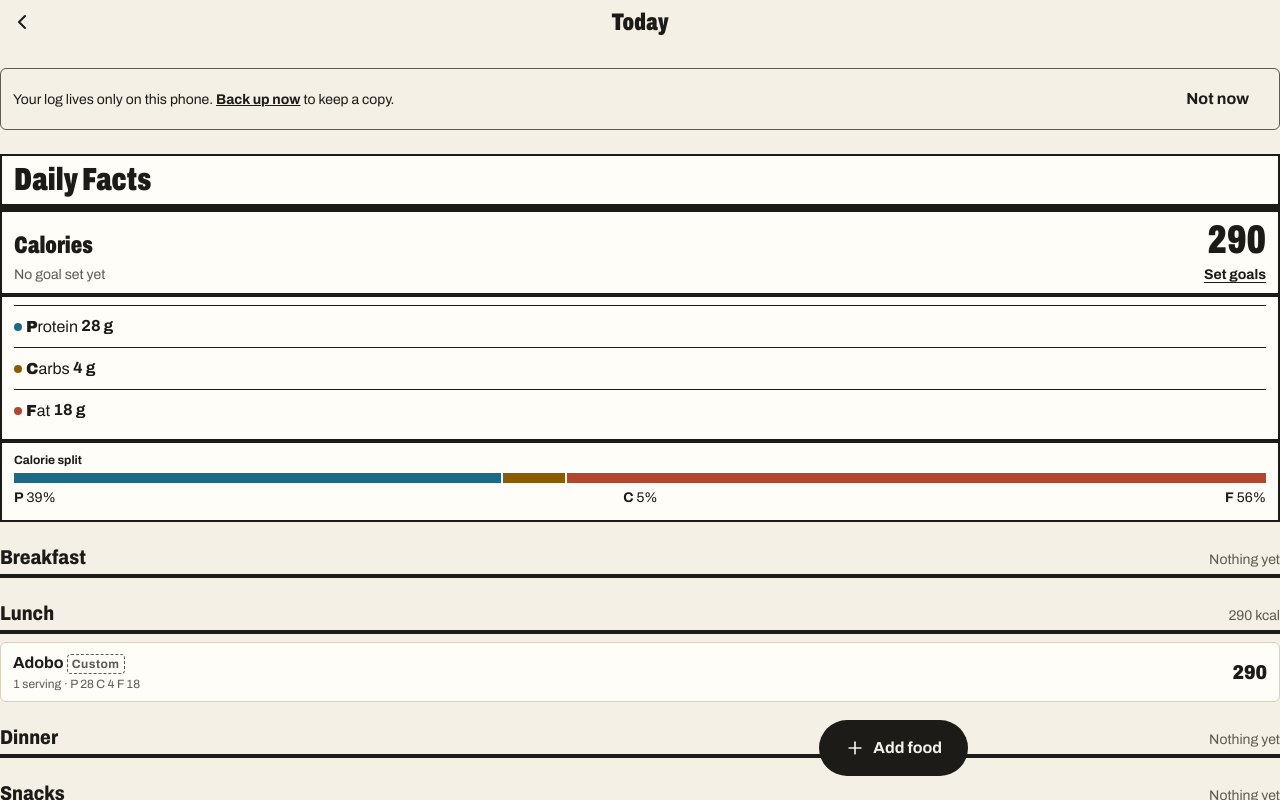
Today logging › deletes from the editor with an undo that restores the entry
This screenshot has width=1280, height=800.
Click the button "Adobo Custom 1 serving · P 28 C 4 F 18 290": point(38, 662) [0,642,1279,702]
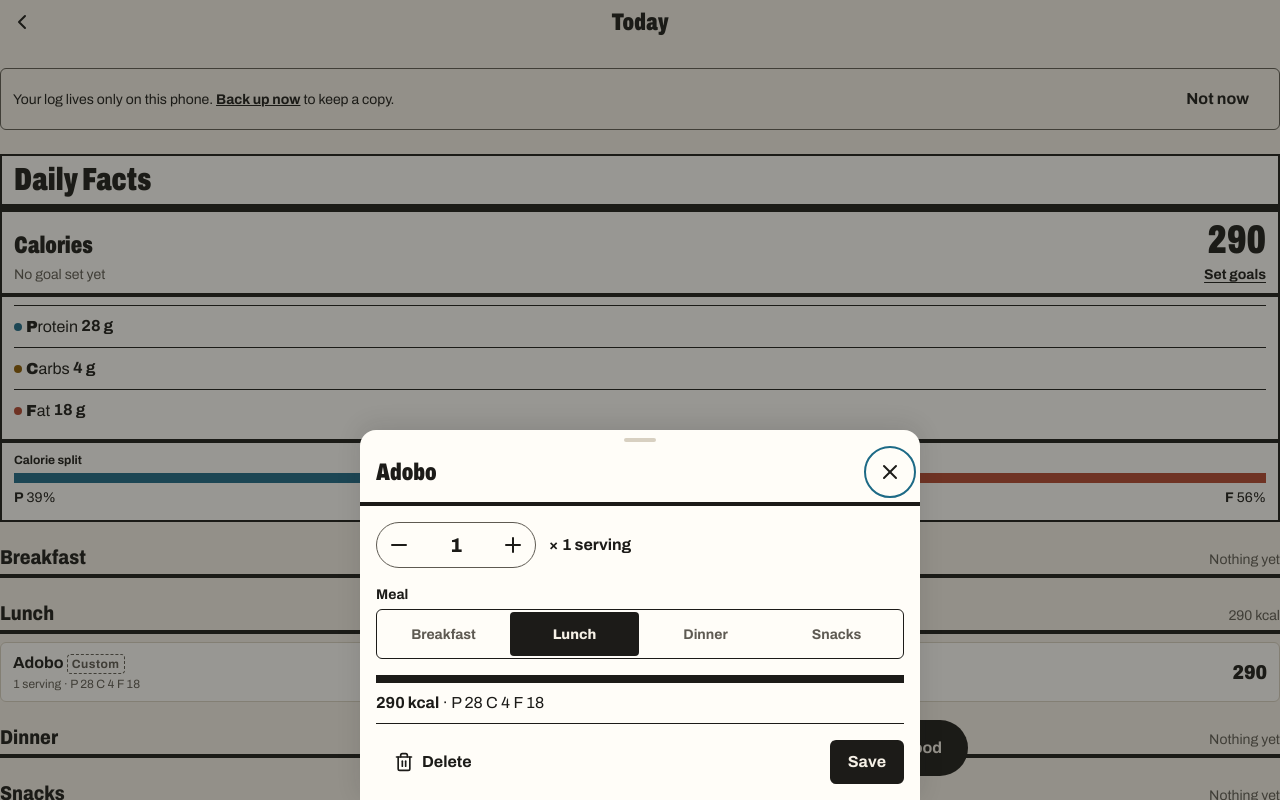
Click the button "Delete": point(433, 762) [376,740,490,784]
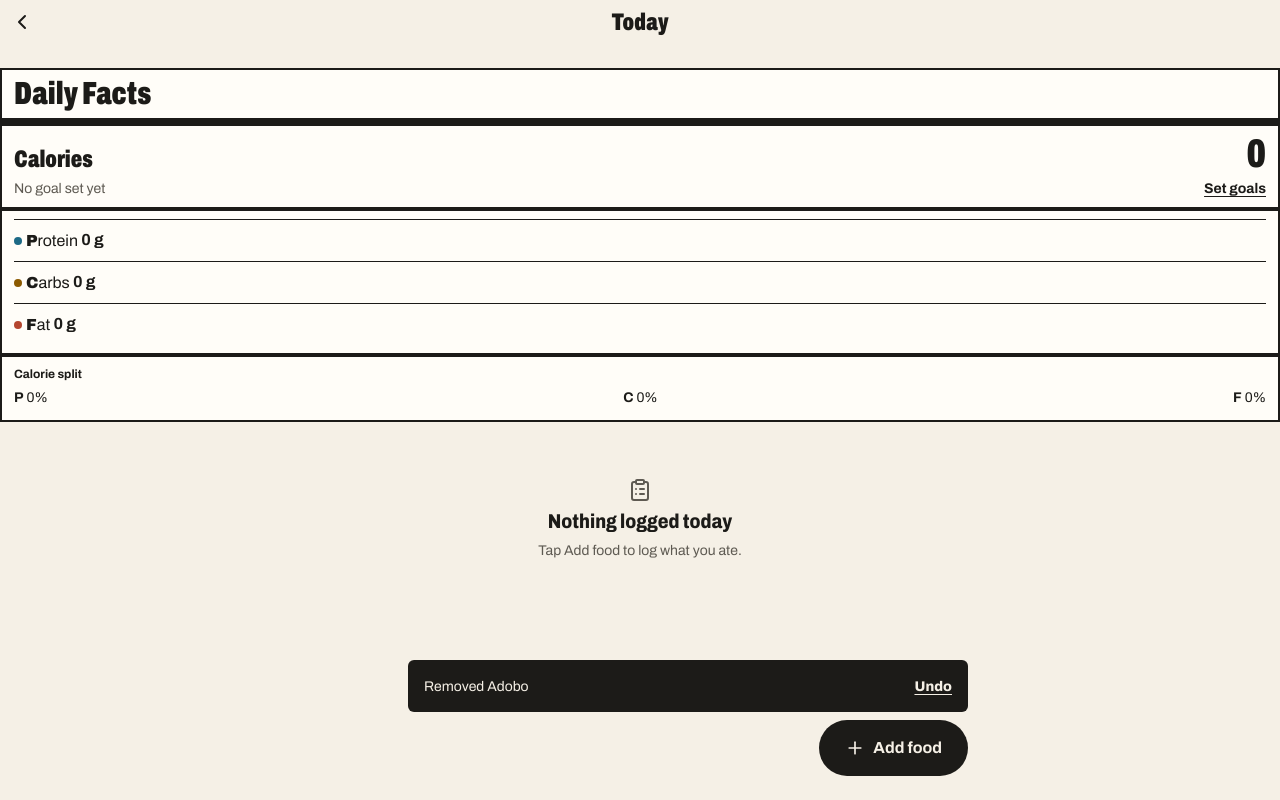
Expected: the text "Removed Adobo" is shown, [424,678,529,694]
Expected: the heading "Nothing logged today" is shown, [548,510,732,532]
Click the button "Undo": point(933, 686) [902,664,964,708]
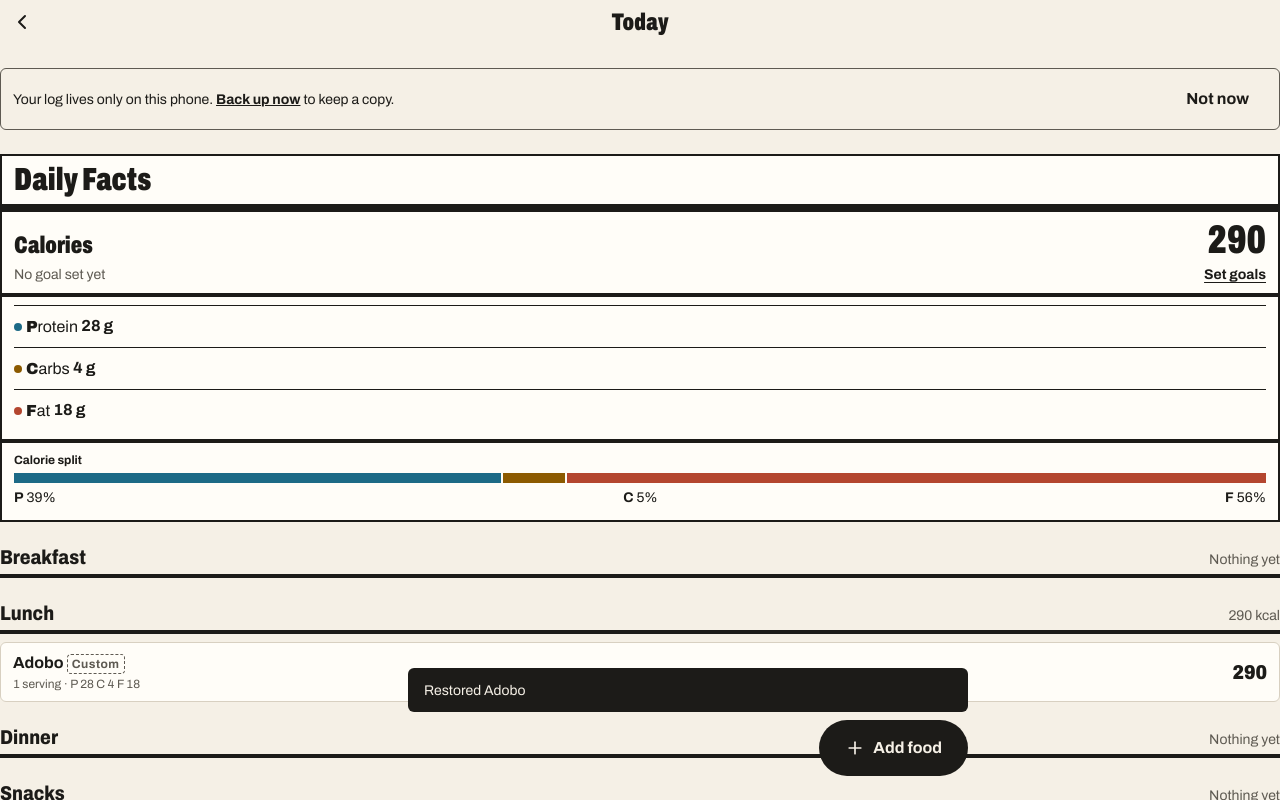
Expected: the button "Adobo Custom 1 serving · P 28 C 4 F 18 290" is shown, [0,642,1279,702]
Expected: the text "Restored Adobo" is shown, [424,682,525,698]
